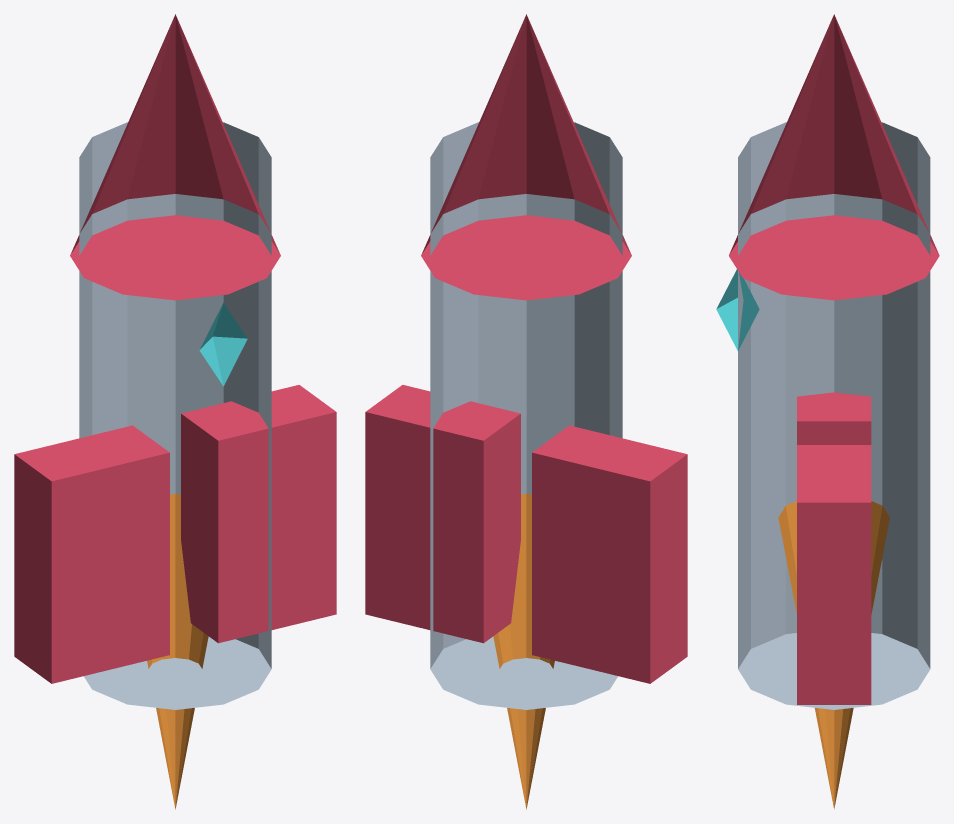
Rendered from minglora_rocket.gltf.
3 views of the same model, side by side, from view 1: azimuth 30°, elevation 25°; view 2: azimuth 150°, elevation 25°; view 3: azimuth 270°, elevation 25° (orthographic).
Parts seen in each view (by area): view 1: minglora_rocket_0, minglora_rocket_3, minglora_rocket_4, minglora_rocket_1, minglora_rocket_2, minglora_rocket_5; view 2: minglora_rocket_0, minglora_rocket_3, minglora_rocket_4, minglora_rocket_1, minglora_rocket_2; view 3: minglora_rocket_0, minglora_rocket_1, minglora_rocket_4, minglora_rocket_2, minglora_rocket_3, minglora_rocket_5.
Boxes of the visible parts, x1=… form: minglora_rocket_0: x1=79, y1=122, x2=271, y2=709; minglora_rocket_3: x1=14, y1=425, x2=169, y2=683; minglora_rocket_4: x1=181, y1=385, x2=336, y2=643; minglora_rocket_1: x1=70, y1=14, x2=280, y2=300; minglora_rocket_2: x1=147, y1=494, x2=208, y2=809; minglora_rocket_5: x1=199, y1=302, x2=247, y2=386; minglora_rocket_0: x1=430, y1=122, x2=622, y2=709; minglora_rocket_3: x1=532, y1=425, x2=687, y2=683; minglora_rocket_4: x1=365, y1=385, x2=520, y2=643; minglora_rocket_1: x1=421, y1=14, x2=631, y2=300; minglora_rocket_2: x1=493, y1=494, x2=554, y2=809; minglora_rocket_0: x1=738, y1=122, x2=930, y2=709; minglora_rocket_1: x1=729, y1=14, x2=939, y2=300; minglora_rocket_4: x1=797, y1=445, x2=871, y2=704; minglora_rocket_2: x1=778, y1=501, x2=889, y2=809; minglora_rocket_3: x1=797, y1=392, x2=871, y2=444; minglora_rocket_5: x1=716, y1=269, x2=759, y2=350.
Bounding box in the file's own units: 1.06 × 2.83 × 0.72.
